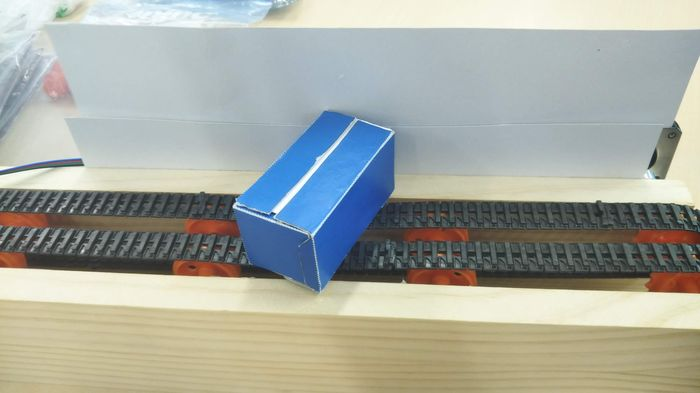box3: (230, 106, 396, 295)
